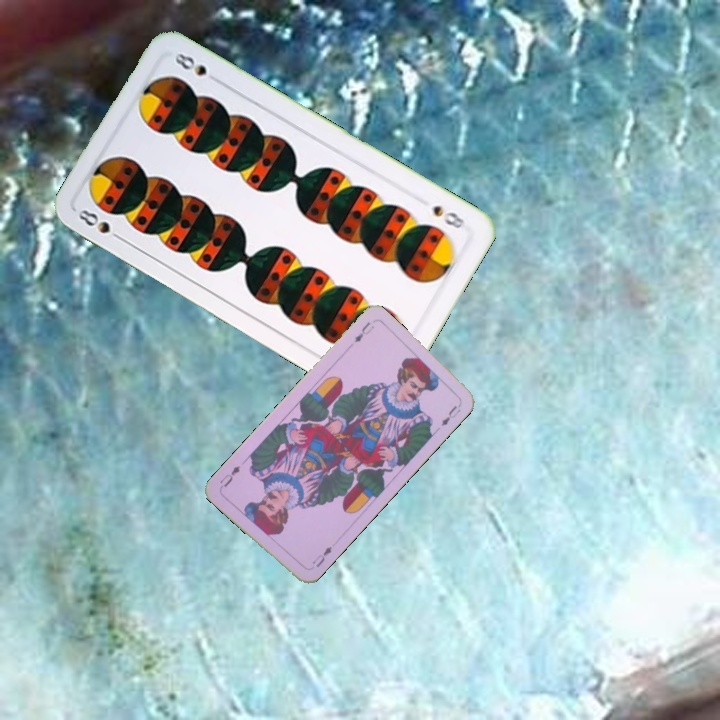EU: (308, 542, 335, 570), (350, 318, 377, 346)
S8: (74, 205, 127, 244), (428, 201, 472, 231)
